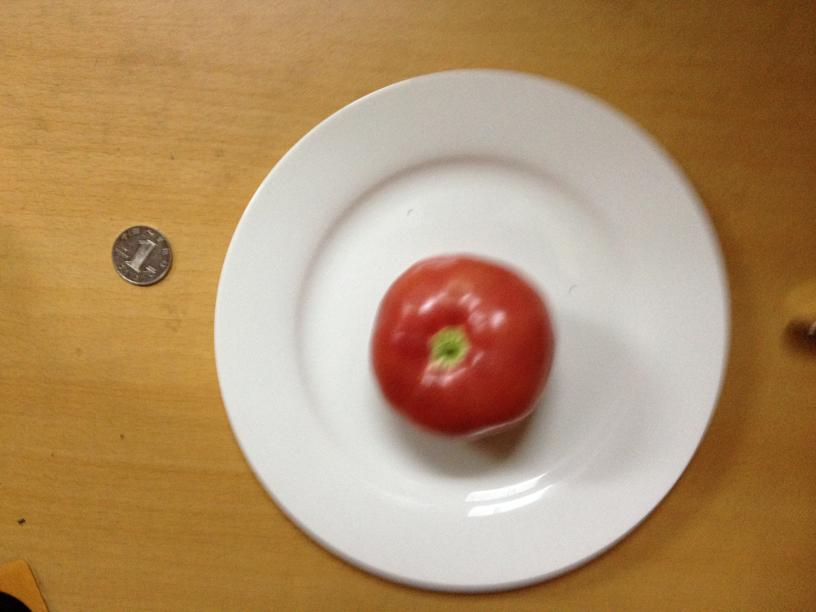coin: (110, 225, 174, 285)
tomato: (362, 258, 553, 440)
